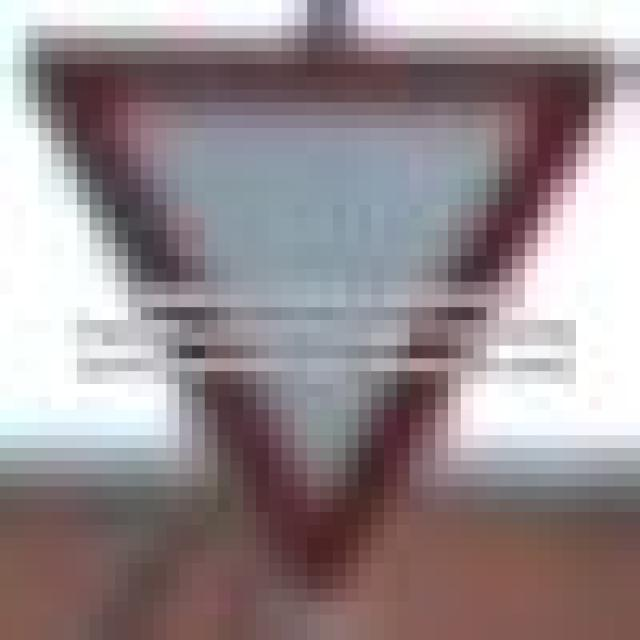gap_in_median: (13, 38, 627, 576)
